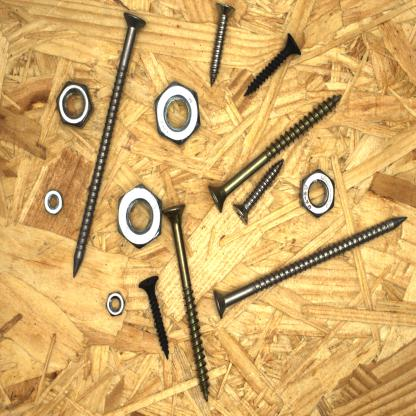screw: (212, 213, 408, 320), (72, 7, 148, 282), (207, 92, 344, 215), (160, 199, 209, 404), (242, 30, 304, 98), (231, 156, 286, 226), (137, 273, 171, 362), (208, 0, 237, 89)
